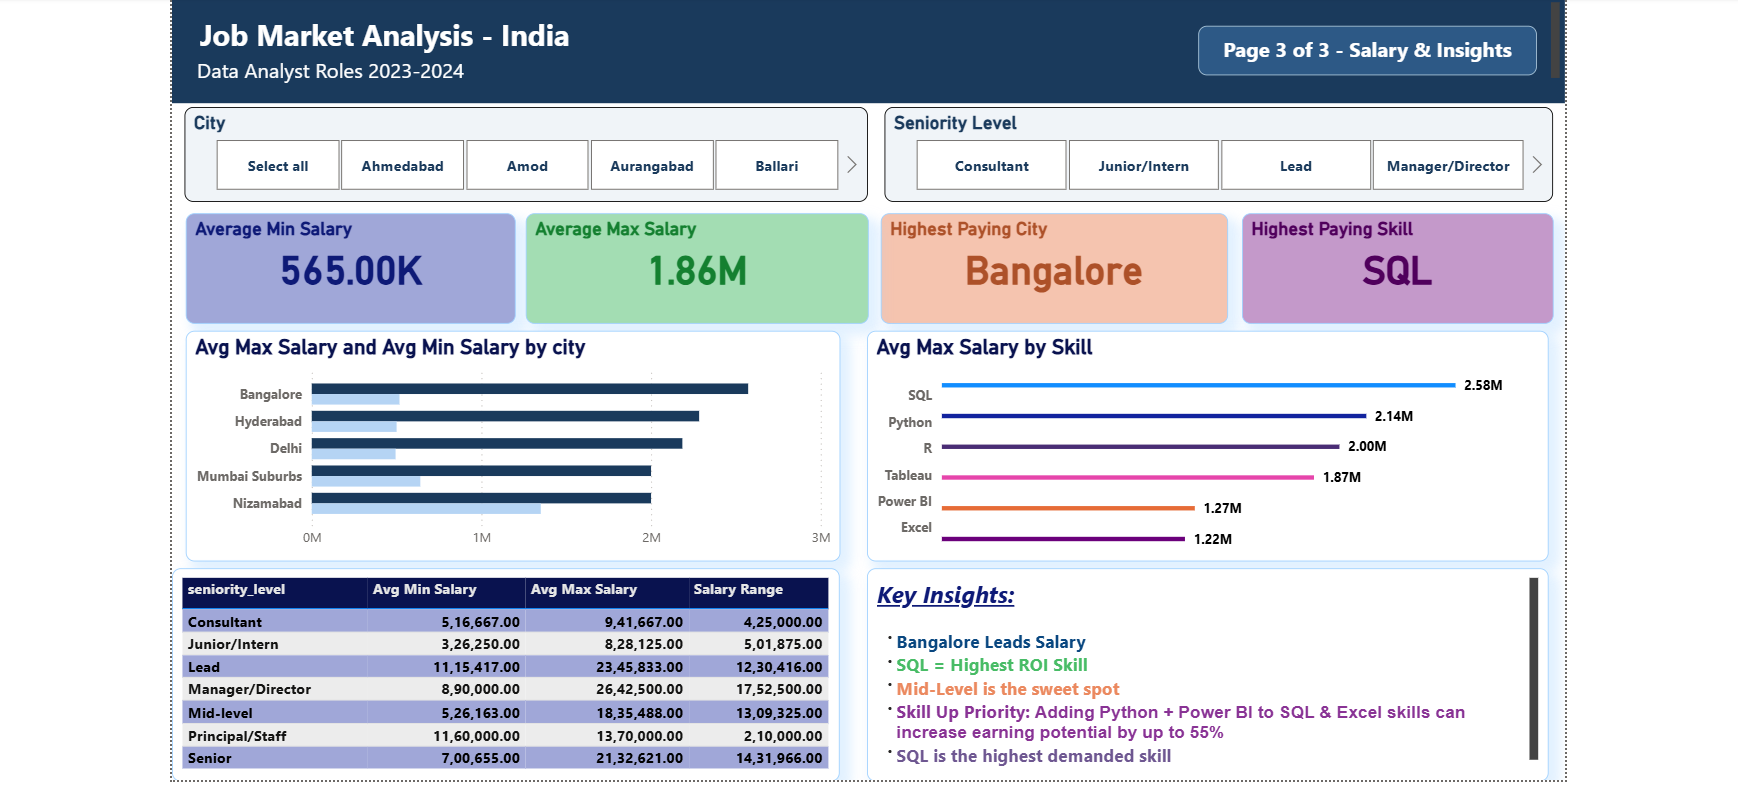

This screenshot's page, from the dashboard's own definition file:
{"tool":"powerbi","page":{"name":"Salary & Insights","canvas":[1280,720],"ordinal":2},"visuals":[{"type":"group","id":"g1","title":"Group 1","box":[0,0,1280,97.3],"z":0},{"type":"textbox","box":[0,0,1280,97.3],"z":0,"group":"g1"},{"type":"textbox","box":[942.6,27,311.5,45.8],"z":11000,"group":"g1"},{"type":"slicer","title":"City","fields":{"Values":["jobs.city"]},"box":[11.3,100.9,628.4,87.3],"z":11001},{"type":"slicer","title":"Seniority Level","fields":{"Values":["jobs.seniority_level"]},"box":[654.4,100.9,614.7,87.3],"z":11002},{"type":"card","title":"Average Min Salary","fields":{"Values":["jobs.Avg Min Salary"]},"box":[12.2,198.8,302.9,101.4],"z":11003},{"type":"card","title":"Highest Paying City","fields":{"Values":["jobs.Highest Paying City"]},"box":[651.7,198.8,319.1,101.4],"z":11004},{"type":"card","title":"Average Max Salary","fields":{"Values":["jobs.Avg Max Salary"]},"box":[324.5,198.8,315,101.4],"z":11005},{"type":"card","title":"Highest Paying Skill","fields":{"Values":["jobs.Highest Paying Skill"]},"box":[983,198.8,286.6,101.4],"z":11006},{"type":"clusteredBarChart","fields":{"Category":["jobs.city"],"Y":["jobs.Avg Max Salary","jobs.Avg Min Salary"]},"box":[12.2,306.9,601.7,212.3],"z":11007},{"type":"clusteredBarChart","title":"Avg Max Salary by Skill","fields":{"Category":["skills.skillName"],"Y":["jobs.Avg Max Salary by Skill"],"Series":["skills.skillName"]},"box":[638.2,306.9,626,212.3],"z":11008},{"type":"tableEx","fields":{"Values":["jobs.seniority_level","jobs.Avg Min Salary","jobs.Avg Max Salary","jobs.Salary Range"]},"box":[0,524.6,613.9,196.1],"z":11009},{"type":"textbox","box":[638.6,524.5,626.1,196.2],"z":11010}]}

Visuals, with their boxes on the page's 1280x720 design canvas (x1, y1, x2, y2). These are canvas units, not pixel positions in the 1738x789 screenshot, which may show the page scaled, cropped or inside an application window:
"Group 1" group: x1=0, y1=0, x2=1280, y2=97
textbox: x1=0, y1=0, x2=1280, y2=97
textbox: x1=943, y1=27, x2=1254, y2=73
"City" slicer: x1=11, y1=101, x2=640, y2=188
"Seniority Level" slicer: x1=654, y1=101, x2=1269, y2=188
"Average Min Salary" card: x1=12, y1=199, x2=315, y2=300
"Highest Paying City" card: x1=652, y1=199, x2=971, y2=300
"Average Max Salary" card: x1=324, y1=199, x2=640, y2=300
"Highest Paying Skill" card: x1=983, y1=199, x2=1270, y2=300
clusteredBarChart - jobs.city x jobs.Avg Max Salary: x1=12, y1=307, x2=614, y2=519
"Avg Max Salary by Skill" clusteredBarChart: x1=638, y1=307, x2=1264, y2=519
tableEx - jobs.seniority_level x jobs.Avg Min Salary: x1=0, y1=525, x2=614, y2=721
textbox: x1=639, y1=524, x2=1265, y2=721
